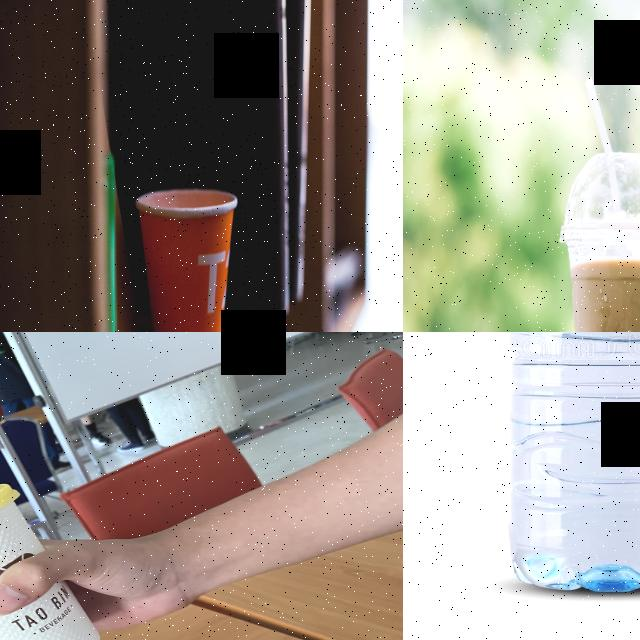bottle: (480, 332, 640, 591)
cup: (0, 478, 102, 640), (136, 183, 238, 332), (561, 154, 640, 332)
